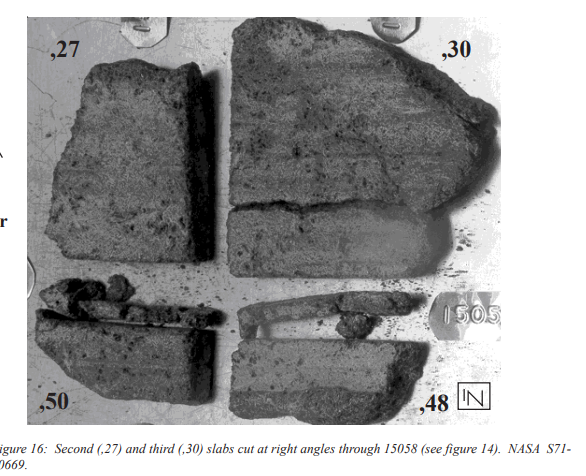Basalt: (232, 30, 446, 275), (72, 58, 196, 268), (36, 282, 212, 407), (241, 298, 416, 417)
